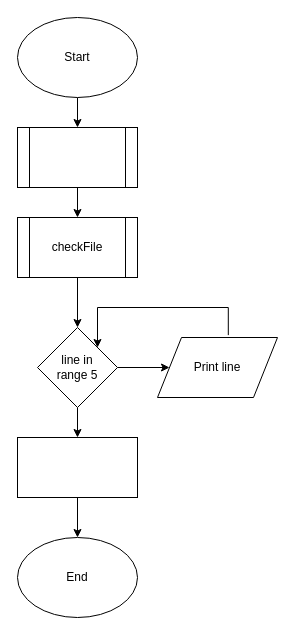
The diagram is 295 pixels wide and 635 high, and some of its shapes have lost their labels. Each missing label, with the centre of its shape:
"Close" goes at (x=77, y=467).
"inputFile" goes at (x=77, y=157).
